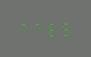eight: (44, 20, 56, 36)
nine: (57, 19, 69, 36)
seven: (18, 20, 30, 37), (31, 20, 43, 37)
